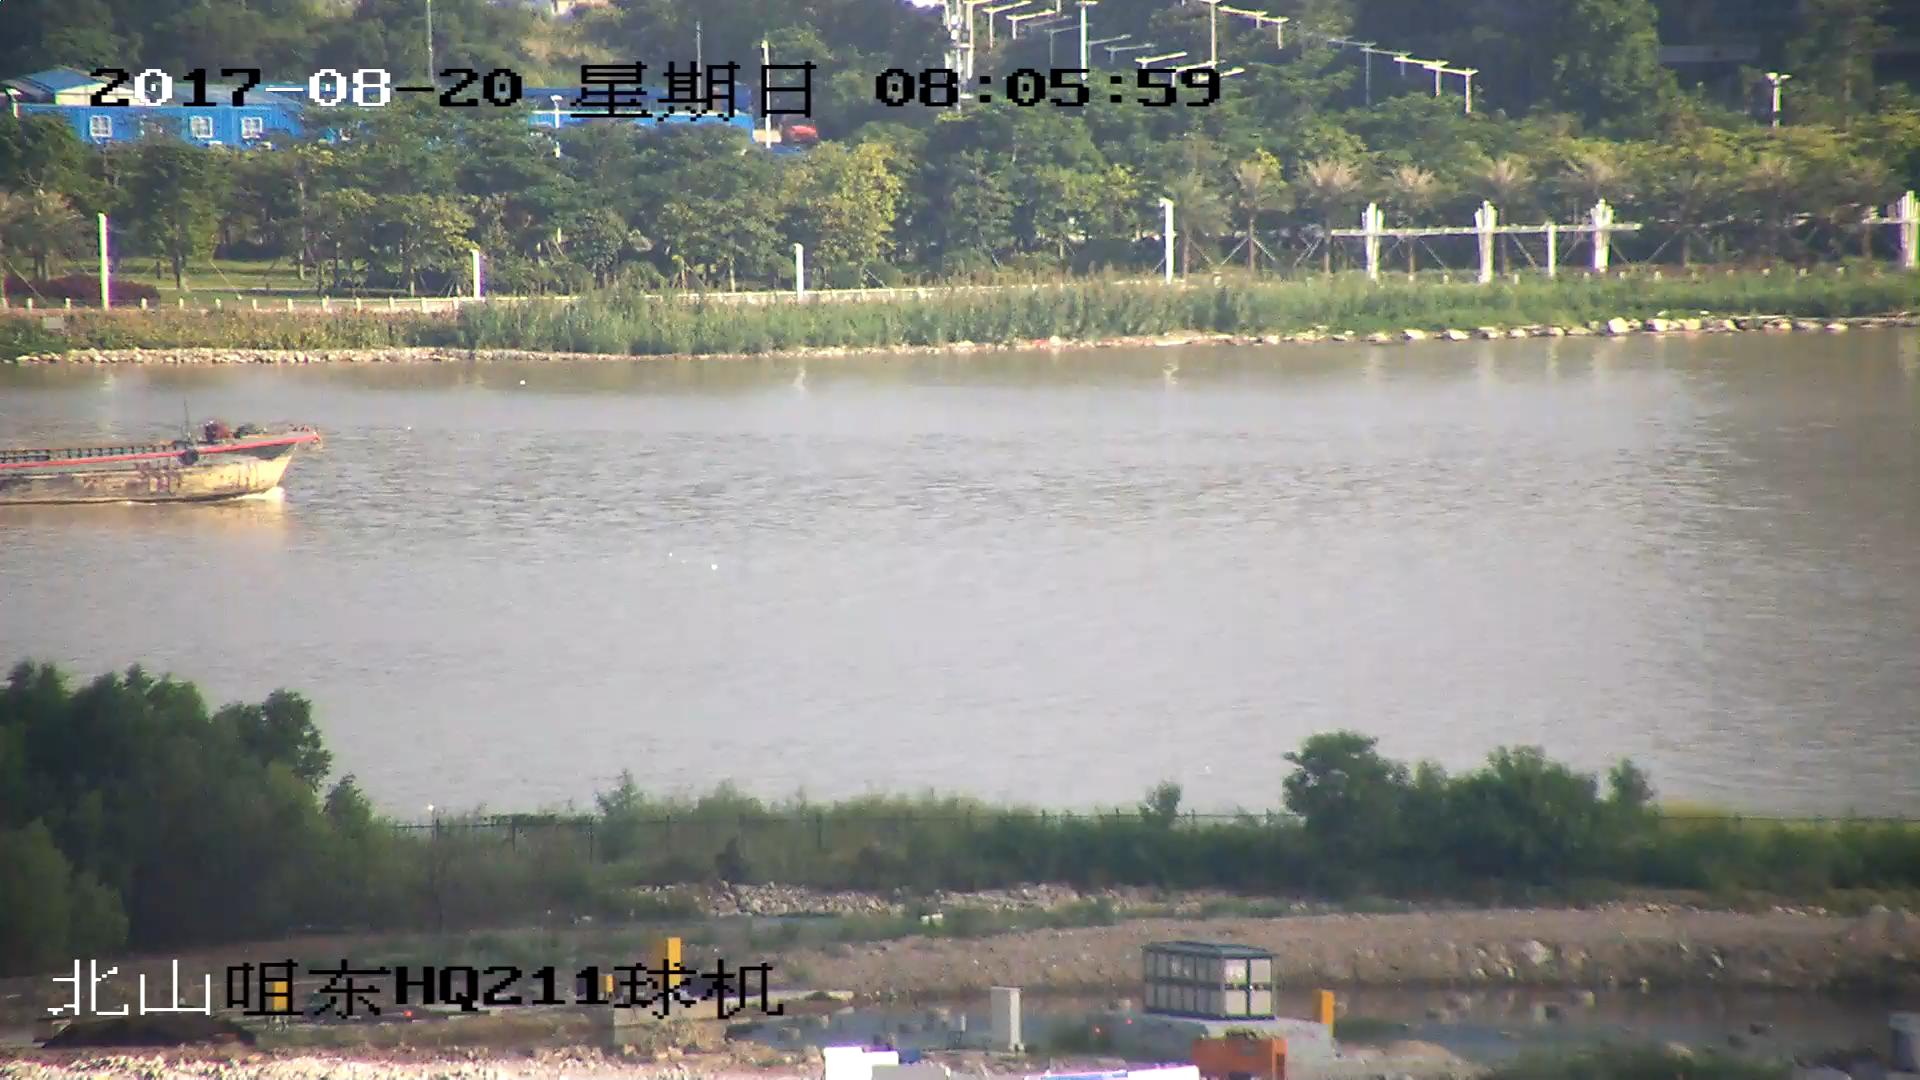fishing boat: (1, 416, 314, 509)
